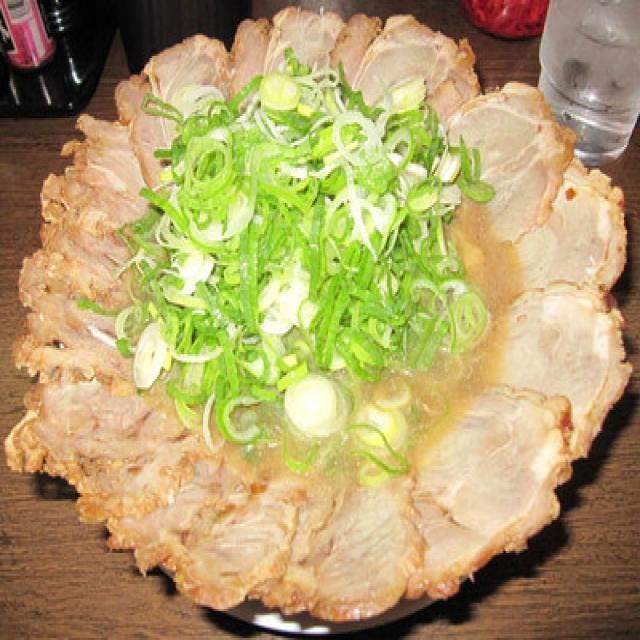面条主食: (27, 12, 618, 624)
